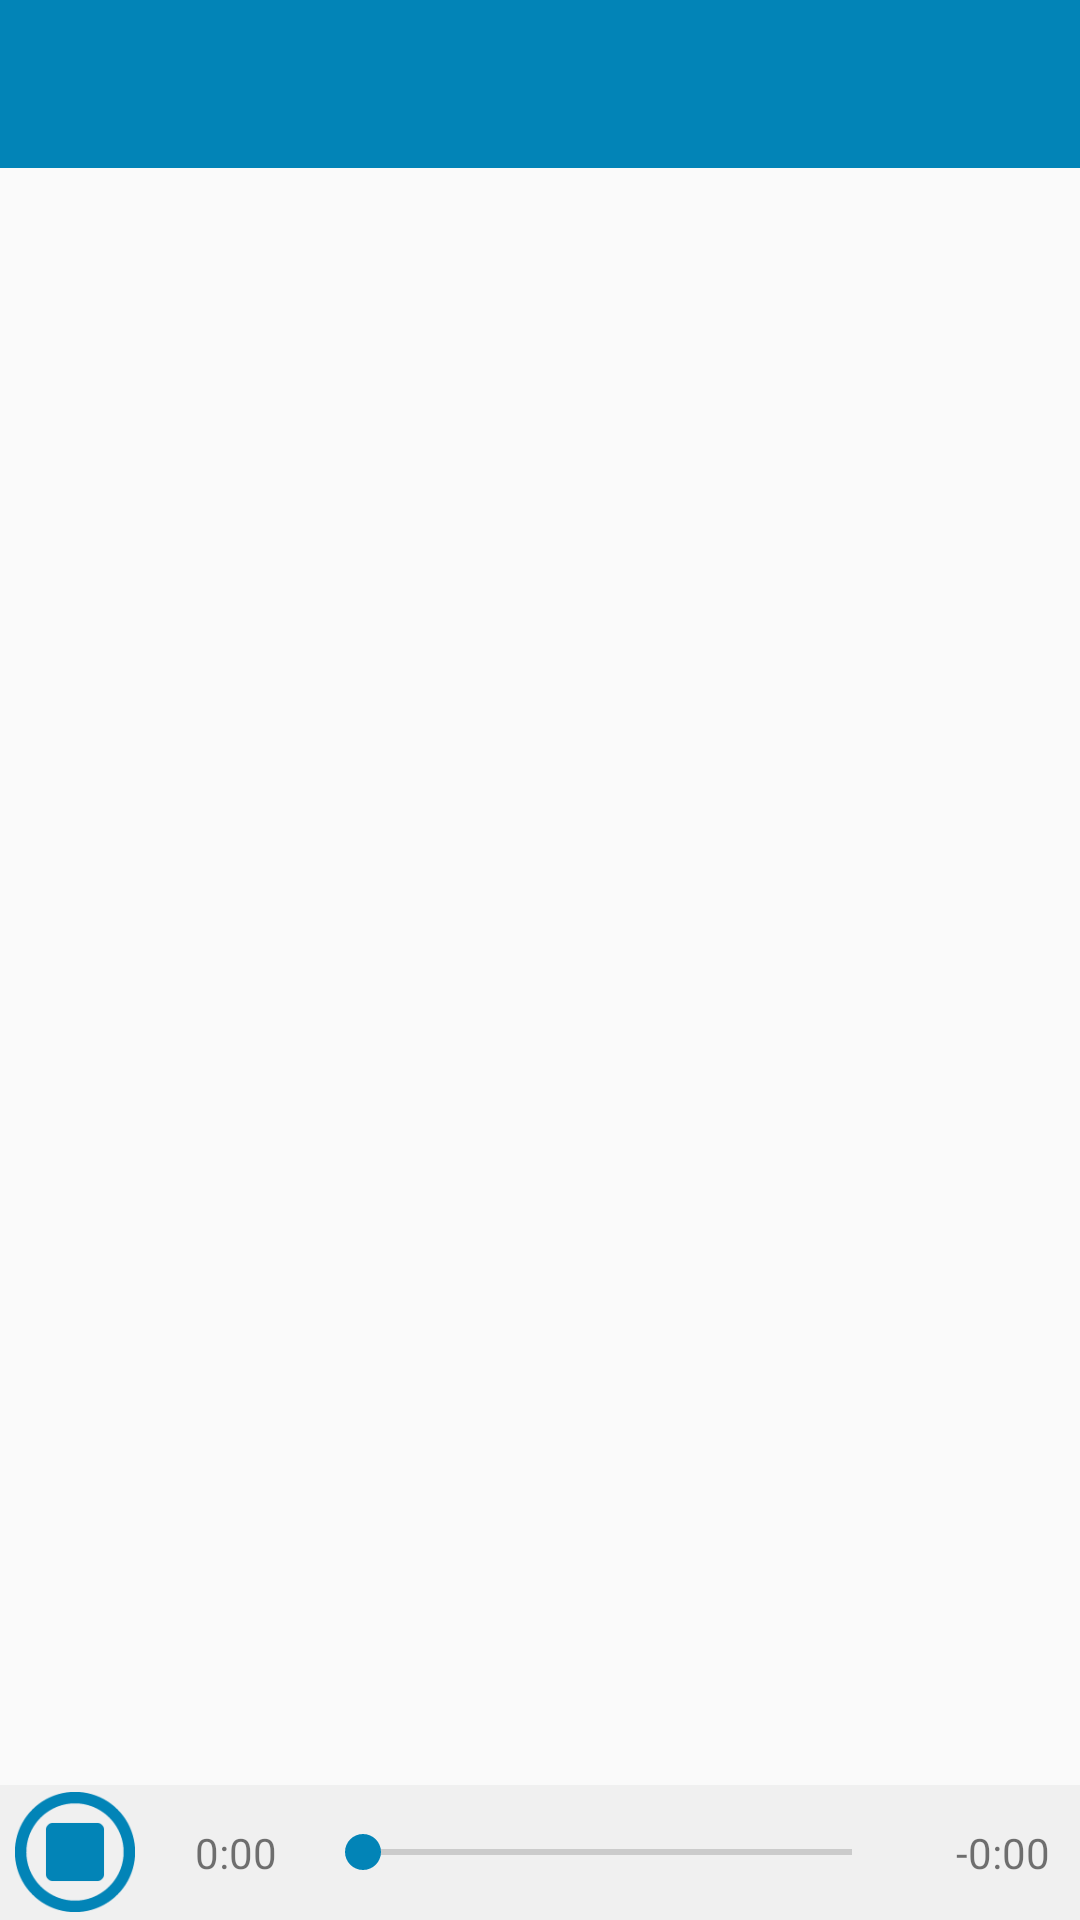

Icons on this 1080×1920 Android screen, each with its box as (left=x1, top=y1, right=x2, bottom=y2):
stop: (left=15, top=1792, right=135, bottom=1912)
